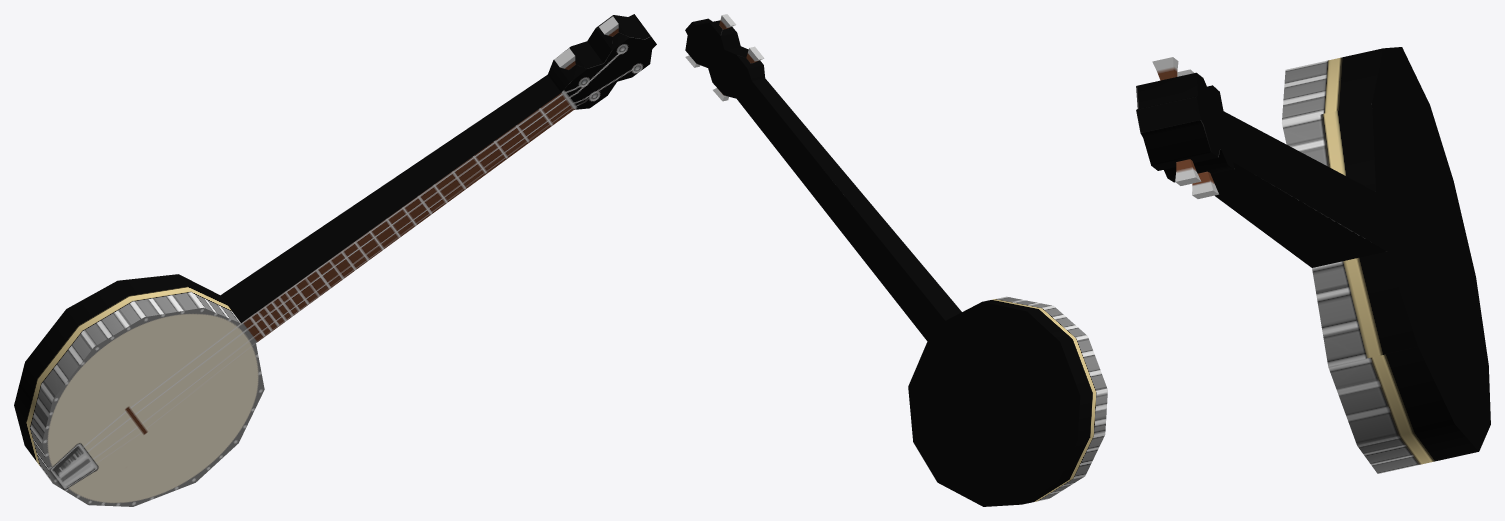
The model's file is Guitarra1_000015.obj.
3 renders of one model, left to right at view 1: azimuth 30°, elevation 25°; view 2: azimuth 150°, elevation 25°; view 3: azimuth 270°, elevation 25°, orthographic. The views are drawn at different scales.
Parts seen in each view (by area): view 1: g1_pCube6; view 2: g1_pCube6; view 3: g1_pCube6.
Part boxes in pixels (x1,y1,x2,y2): g1_pCube6: (14, 14, 656, 506); g1_pCube6: (685, 14, 1107, 506); g1_pCube6: (1136, 47, 1490, 473).
Bounding box in the file's own units: 11.46 × 8.65 × 3.84.
